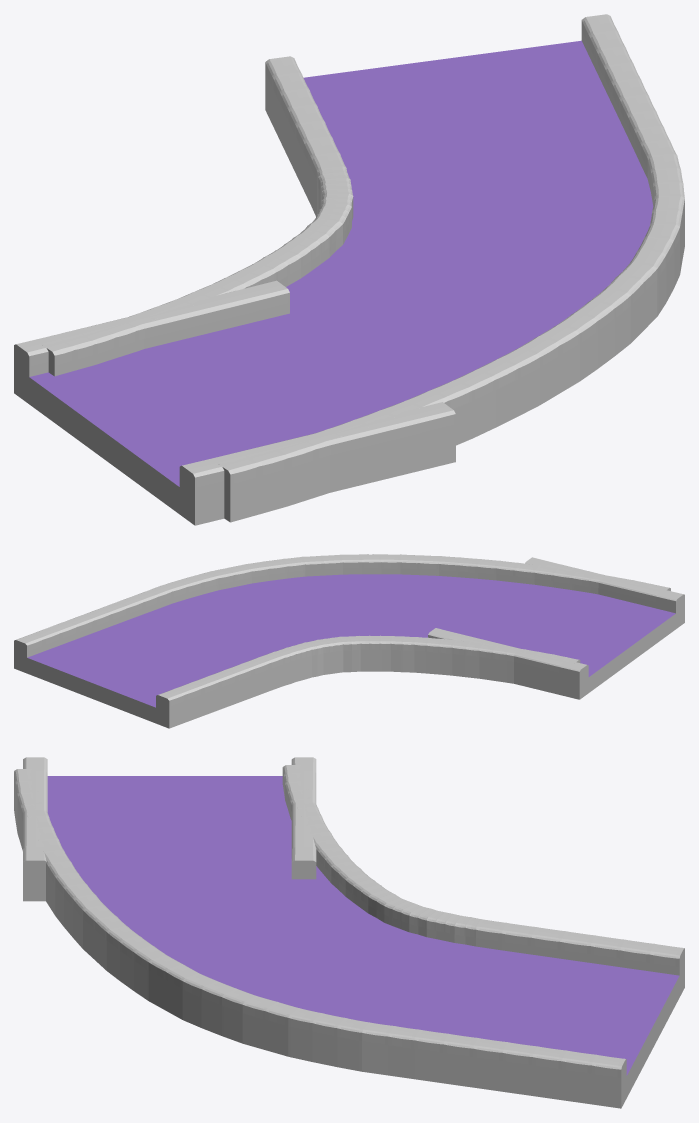
The model's file is road2.fbx.
The picture shows the model from 3 angles, top to bottom: view 1: azimuth 30°, elevation 25°; view 2: azimuth 150°, elevation 25°; view 3: azimuth 270°, elevation 25°; orthographic projection. The views are drawn at different scales.
Visible parts, largest first — view 1: Cube.001, Cube; view 2: Cube.001, Cube; view 3: Cube.001, Cube.
Boxes of the visible parts, bbox=[...] form: Cube.001: bbox=[41, 14, 684, 522]; Cube: bbox=[14, 280, 455, 525]; Cube.001: bbox=[14, 554, 670, 728]; Cube: bbox=[428, 557, 684, 699]; Cube.001: bbox=[14, 764, 684, 1108]; Cube: bbox=[23, 757, 316, 901].
Size of the model in its own units: 6017 by 370 by 5496.
